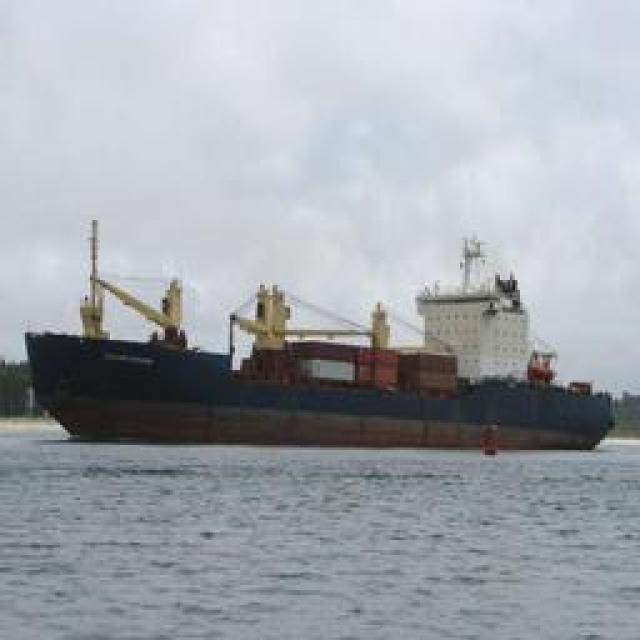CIV_Ship: (32, 252, 626, 452)
